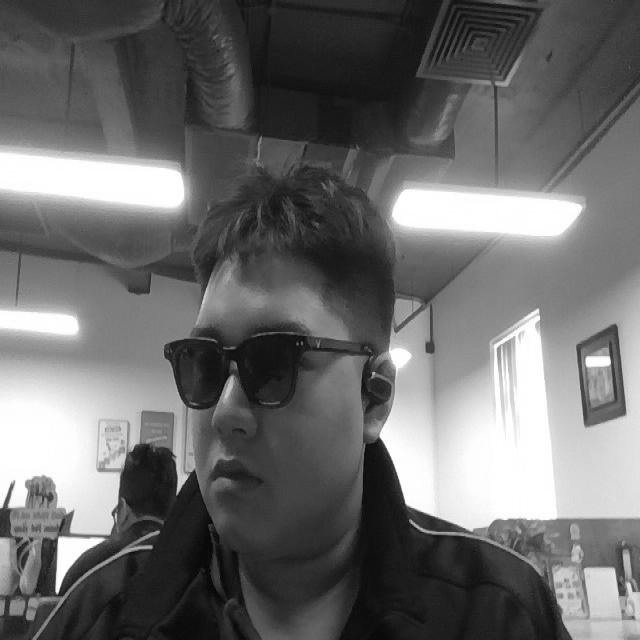fake: (163, 327, 373, 410)
real: (187, 193, 393, 567)
